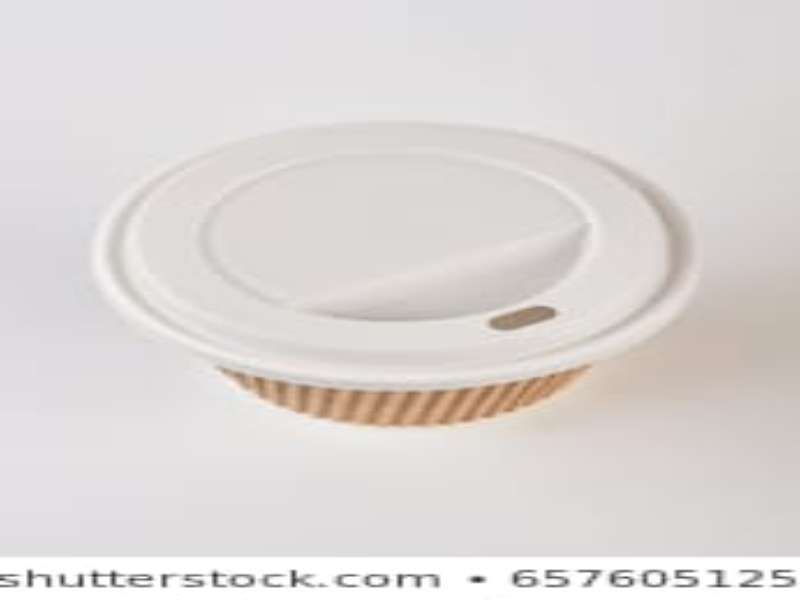coffee-lid: (89, 117, 707, 387)
